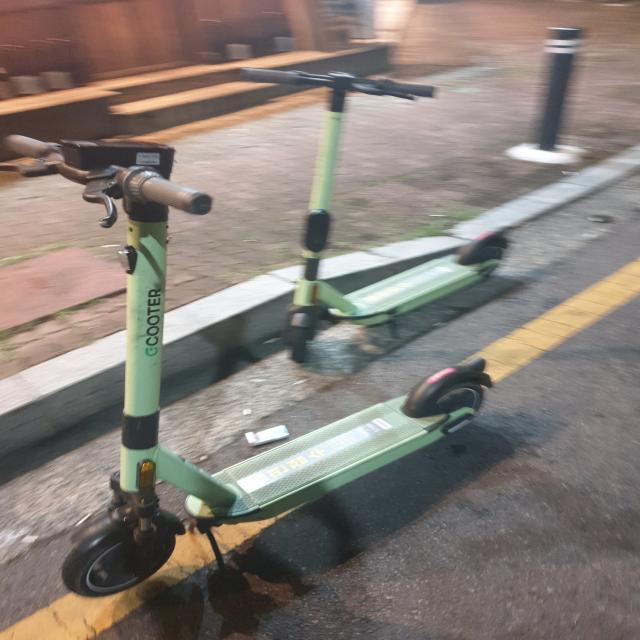bike: (0, 114, 499, 600), (237, 65, 509, 363)
